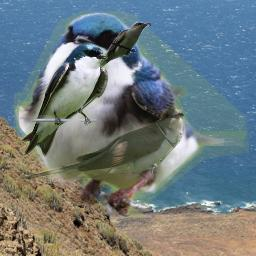Cuckoo: (15, 106, 184, 183), (77, 21, 151, 79)
Swallow: (14, 11, 249, 217), (20, 42, 108, 157)
